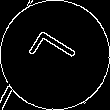L_SE: (25, 28, 85, 82)
